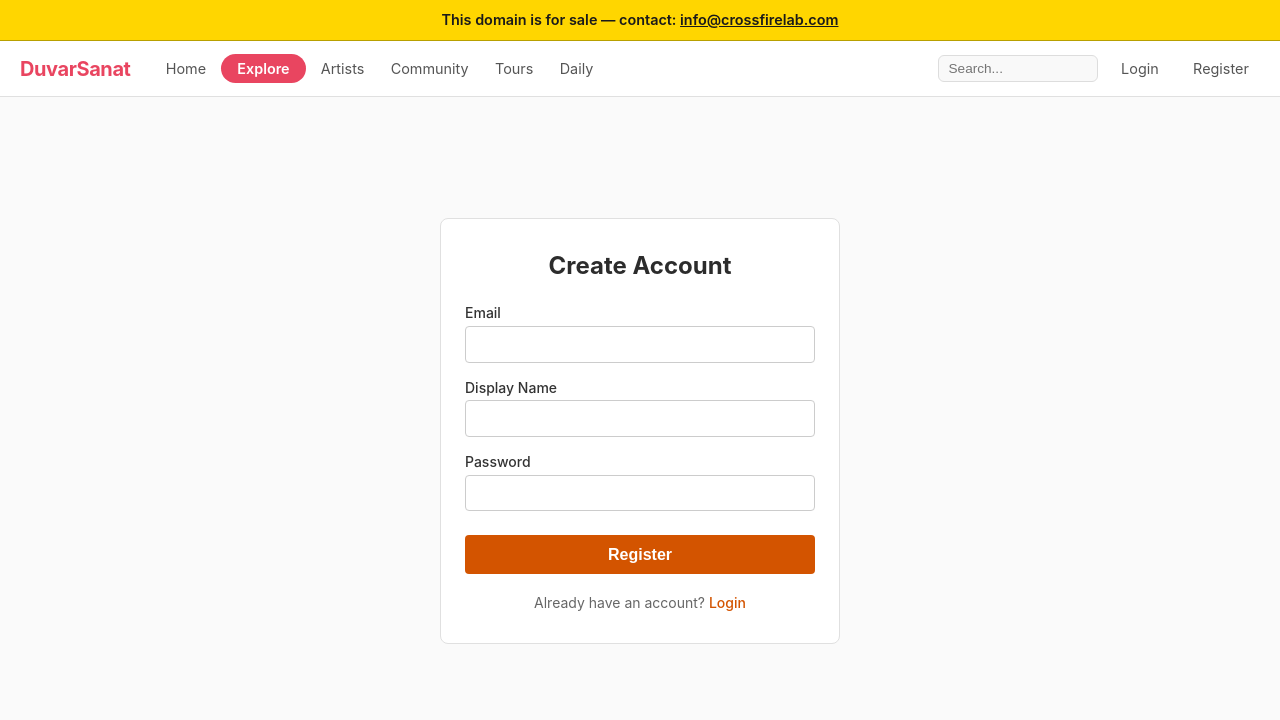
Test: RegisterPage › shows all validation errors when submitting empty form
The width and height of the screenshot is (1280, 720).
Click the button "Register" at (640, 555), box [465,535,815,574]
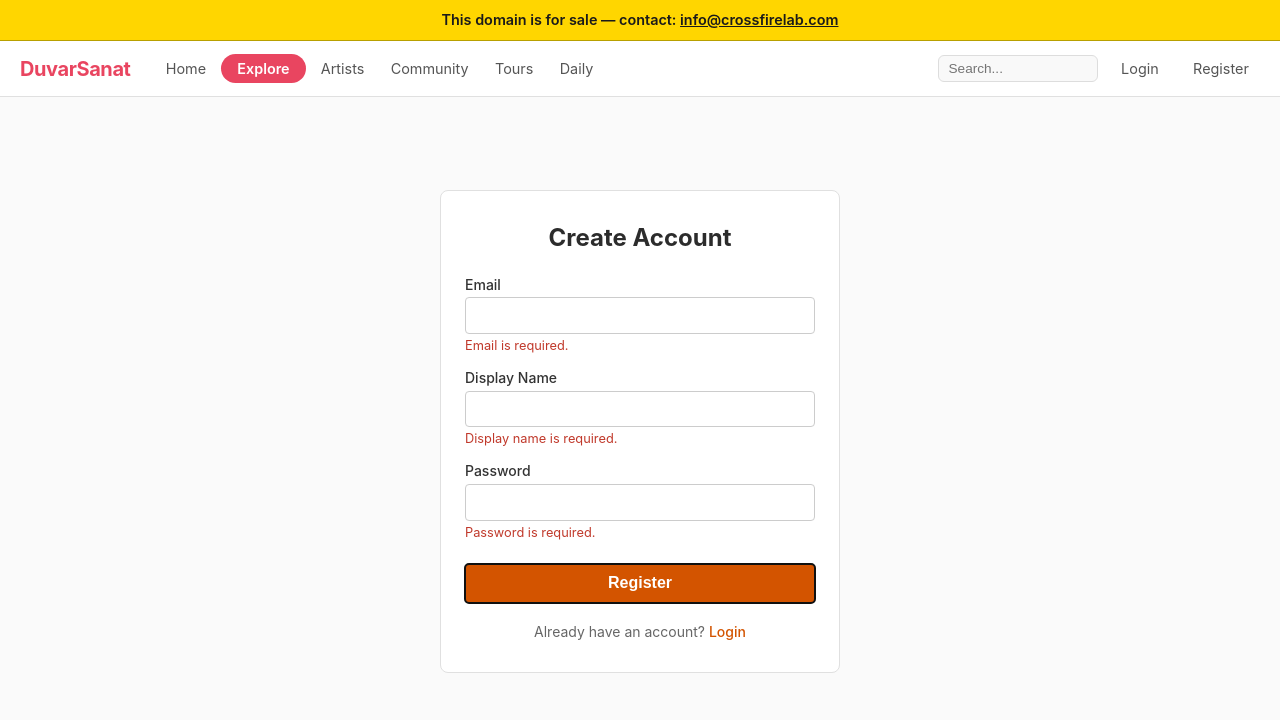
Result: the text "Email is required." is shown at [465,338,568,353]
Result: the text "Password is required." is shown at [465,525,595,540]
Result: the text "Display name is required." is shown at [465,432,618,446]
